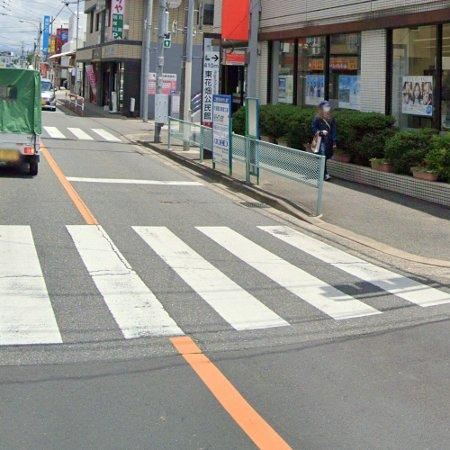crosswalks: (0, 225, 450, 347)
